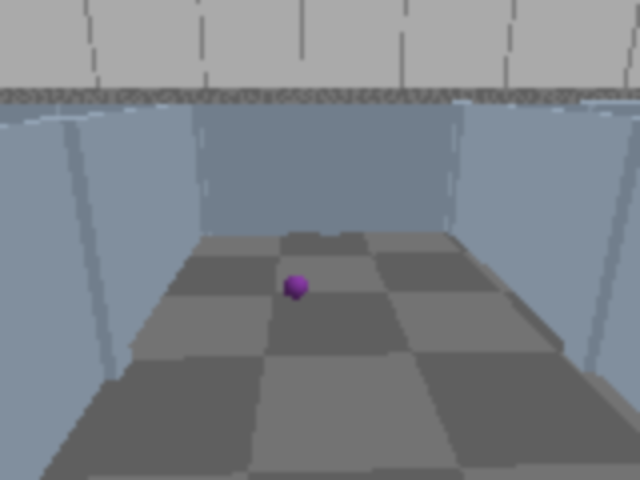puck: (279, 269, 311, 305)
